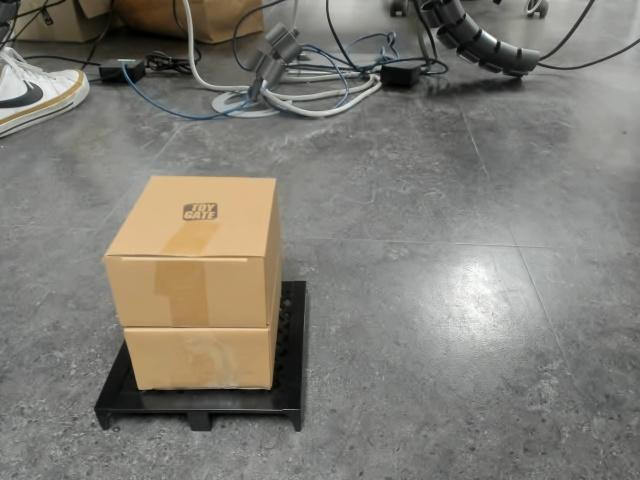box: (93, 173, 309, 435)
